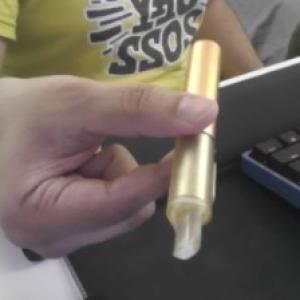Golden-E-Ciggirate: (166, 37, 223, 262)
